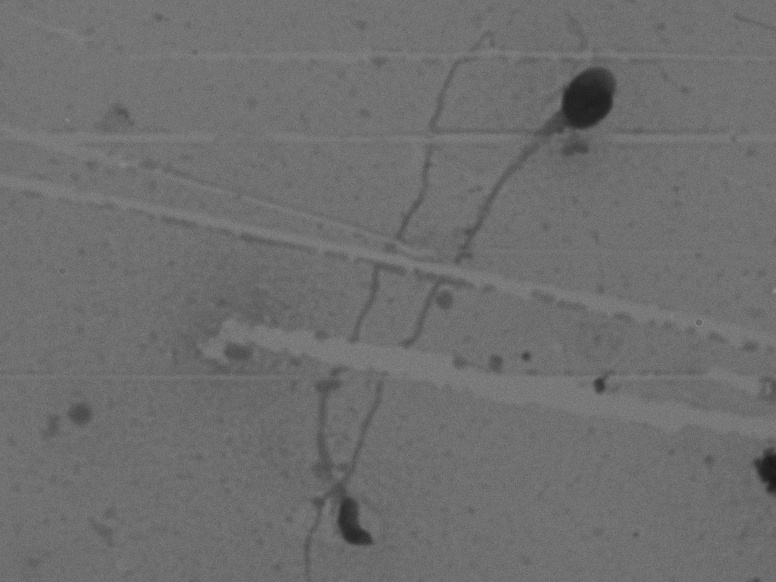Abnormal: (335, 38, 661, 481), (294, 24, 530, 563)
